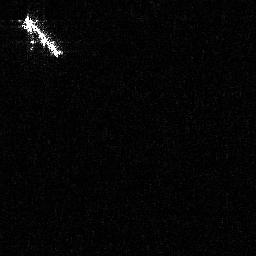ship: (16, 11, 66, 60)
